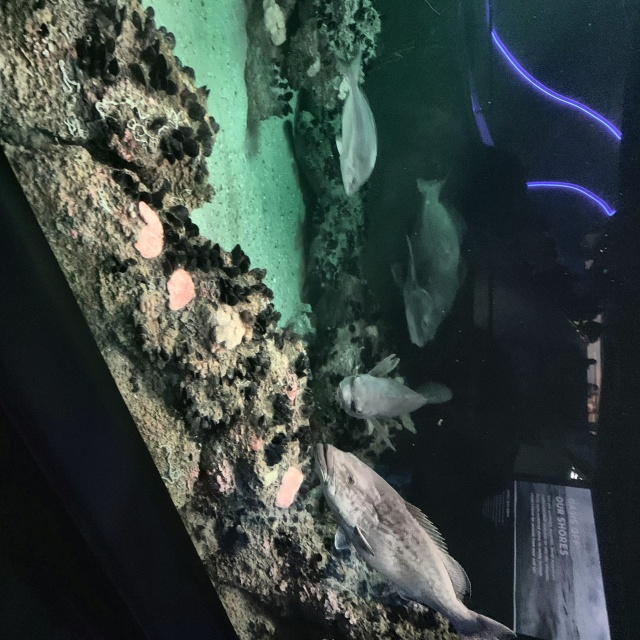fish: (312, 441, 518, 639), (388, 167, 471, 350), (333, 350, 454, 446), (332, 40, 379, 200)
